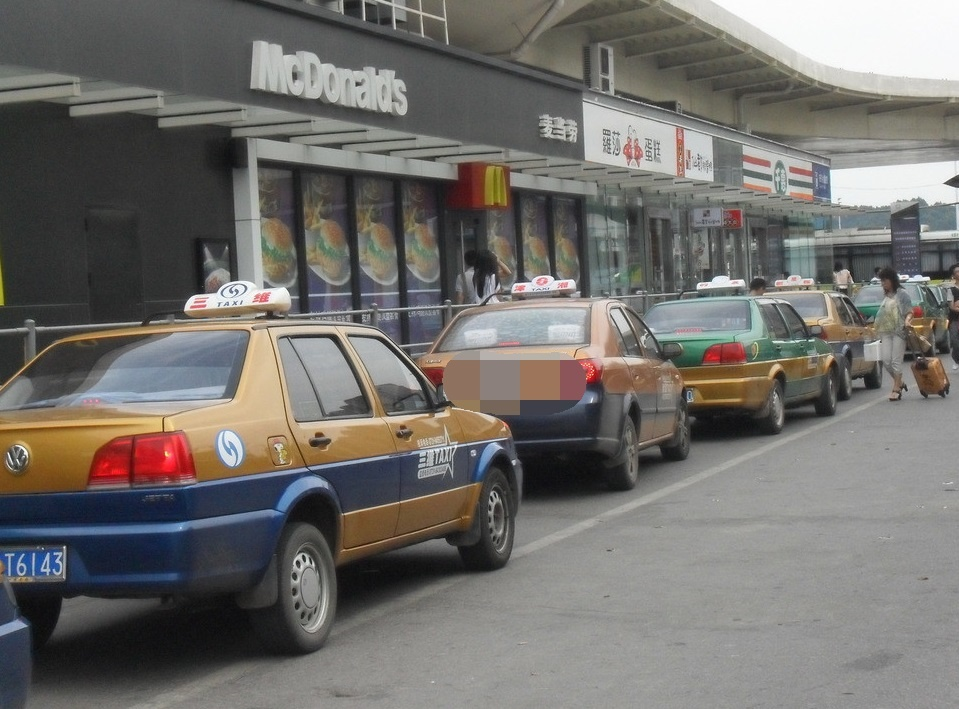taxi: (5, 283, 517, 663), (428, 265, 703, 485), (625, 282, 838, 435)
